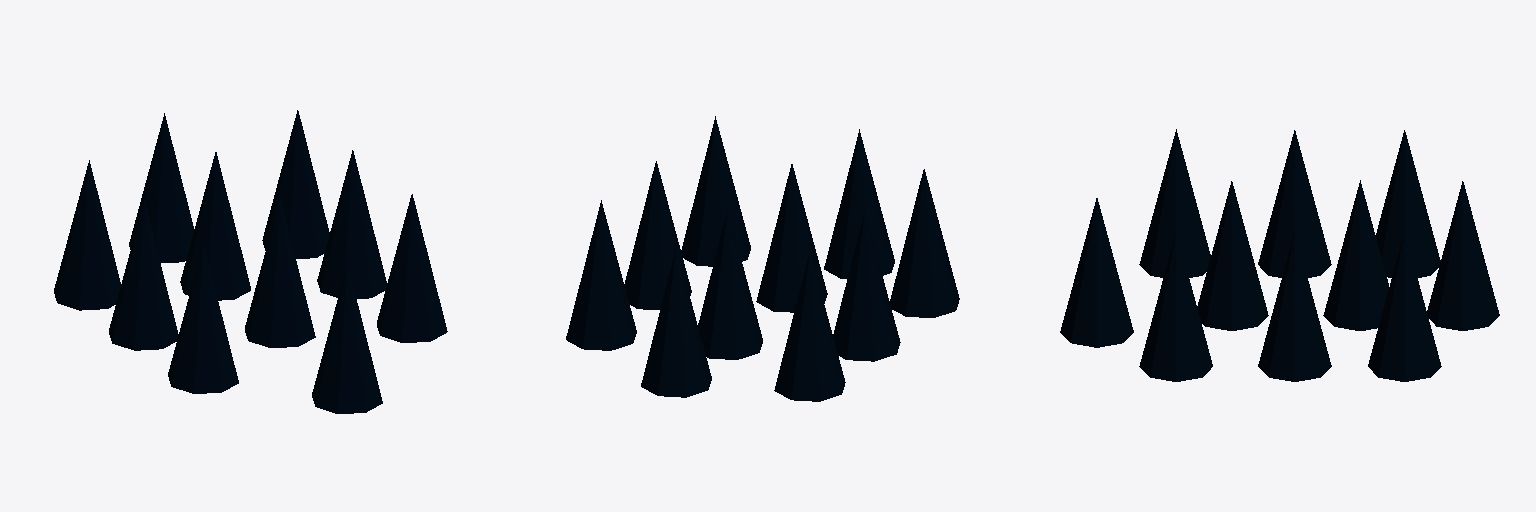
Rendered from Spikes.obj.
The picture shows the model from 3 angles: view 1: azimuth 30°, elevation 25°; view 2: azimuth 150°, elevation 25°; view 3: azimuth 270°, elevation 25°; orthographic projection.
Parts seen in each view (by area): view 1: Cone; view 2: Cone; view 3: Cone.
Part boxes in pixels (bbox=[...]): Cone: bbox=[54, 110, 447, 413]; Cone: bbox=[566, 116, 959, 401]; Cone: bbox=[1060, 129, 1499, 381].
Bounding box in the file's own units: 4.2 × 2.24 × 5.86.